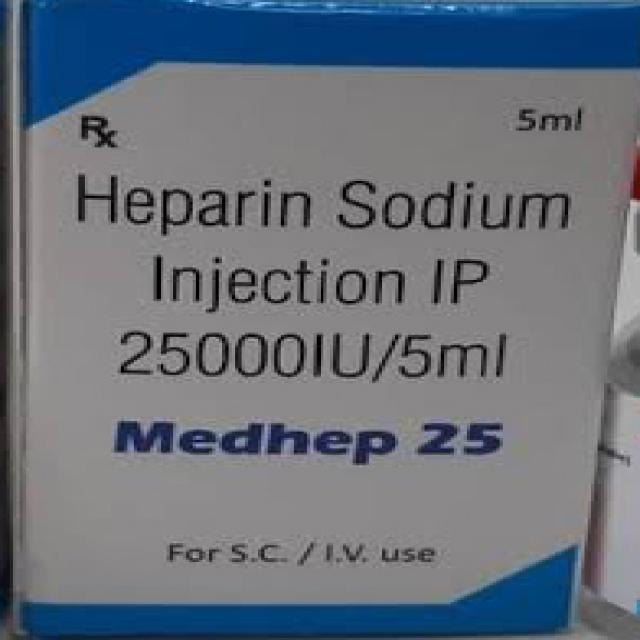drug-name: (112, 400, 509, 466)
